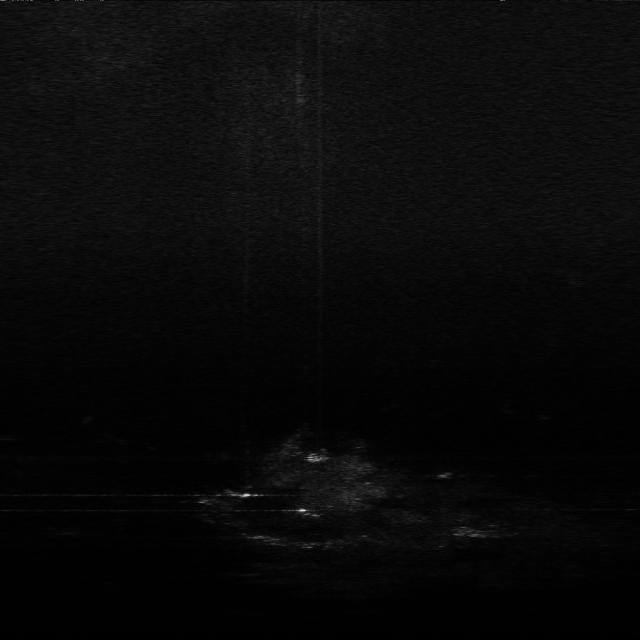rov: (300, 448, 332, 466)
